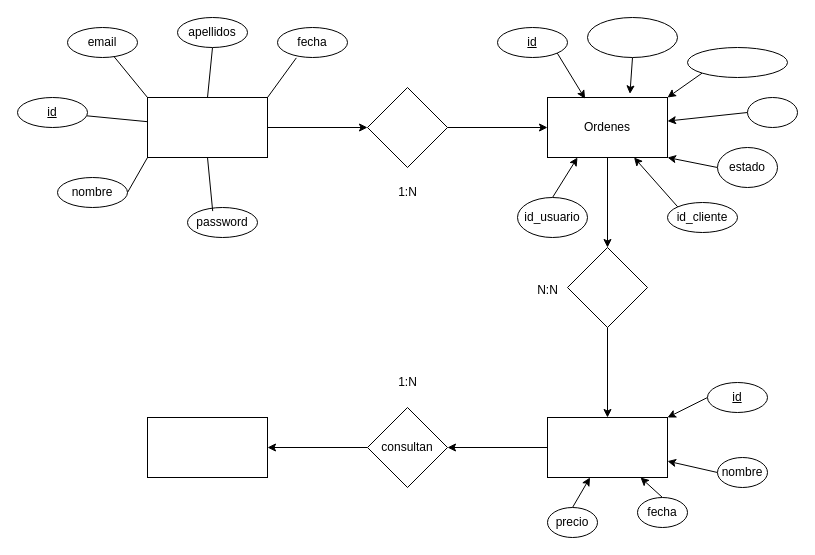
Image size: 815x555. Some labels were removed from this diagram. The centre of each missing label's shape, as x and y in pixels:
"fecha_eventos" goes at point (737, 62).
"fecha_ordenes" goes at point (632, 37).
"Hace" goes at point (407, 127).
"Inventario" goes at point (207, 447).
"Productos" goes at point (607, 447).
"tienen" goes at point (607, 287).
"total" goes at point (772, 112).
"Usuarios" goes at point (207, 127).
